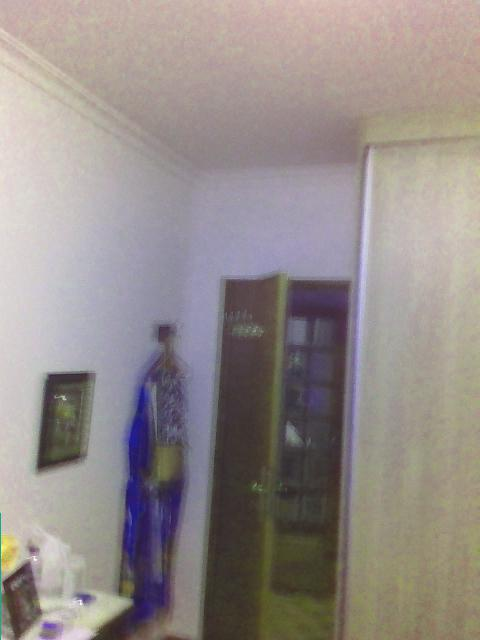semi_door: (198, 270, 352, 639)
